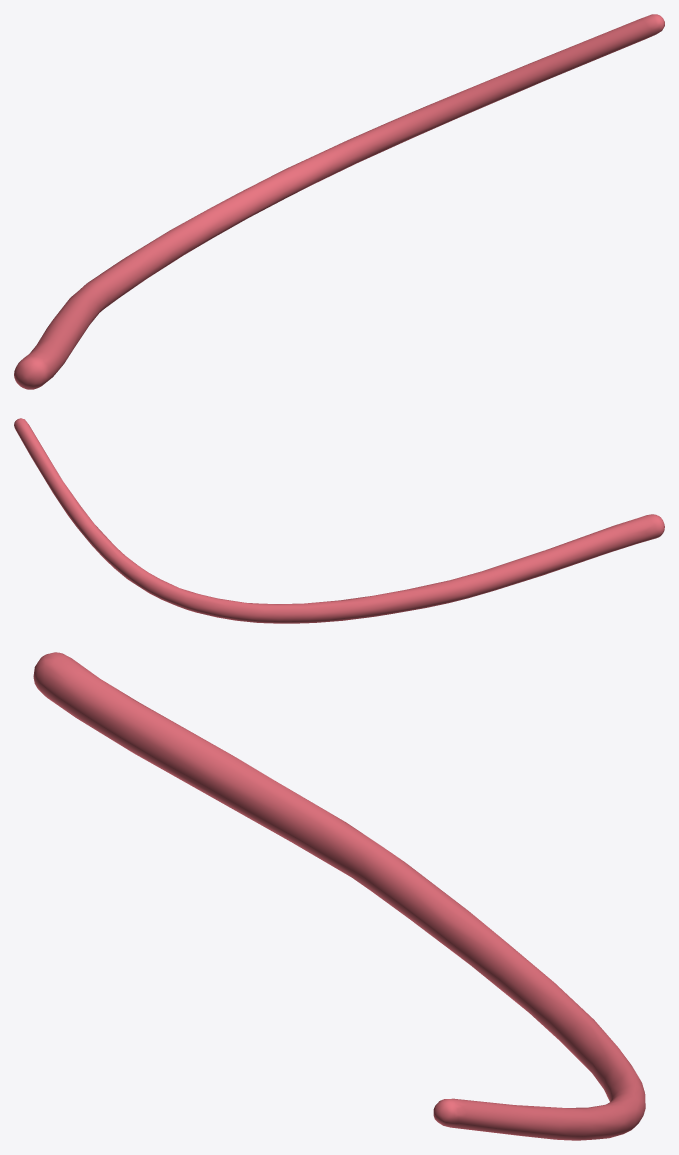
The model's file is fma22687_fj2291m.glb.
The picture shows the model from 3 angles, top to bottom: view 1: azimuth 30°, elevation 25°; view 2: azimuth 150°, elevation 25°; view 3: azimuth 270°, elevation 25°; orthographic projection. The views are drawn at different scales.
Visible parts, largest first — view 1: FMA22687_FJ2291M; view 2: FMA22687_FJ2291M; view 3: FMA22687_FJ2291M.
Boxes of the visible parts, x1,y1,x2,y2 form: FMA22687_FJ2291M: (14, 14, 664, 389); FMA22687_FJ2291M: (14, 418, 664, 623); FMA22687_FJ2291M: (33, 652, 645, 1140).
Bounding box in the file's own units: 0.0511 × 0.00986 × 0.0246.
